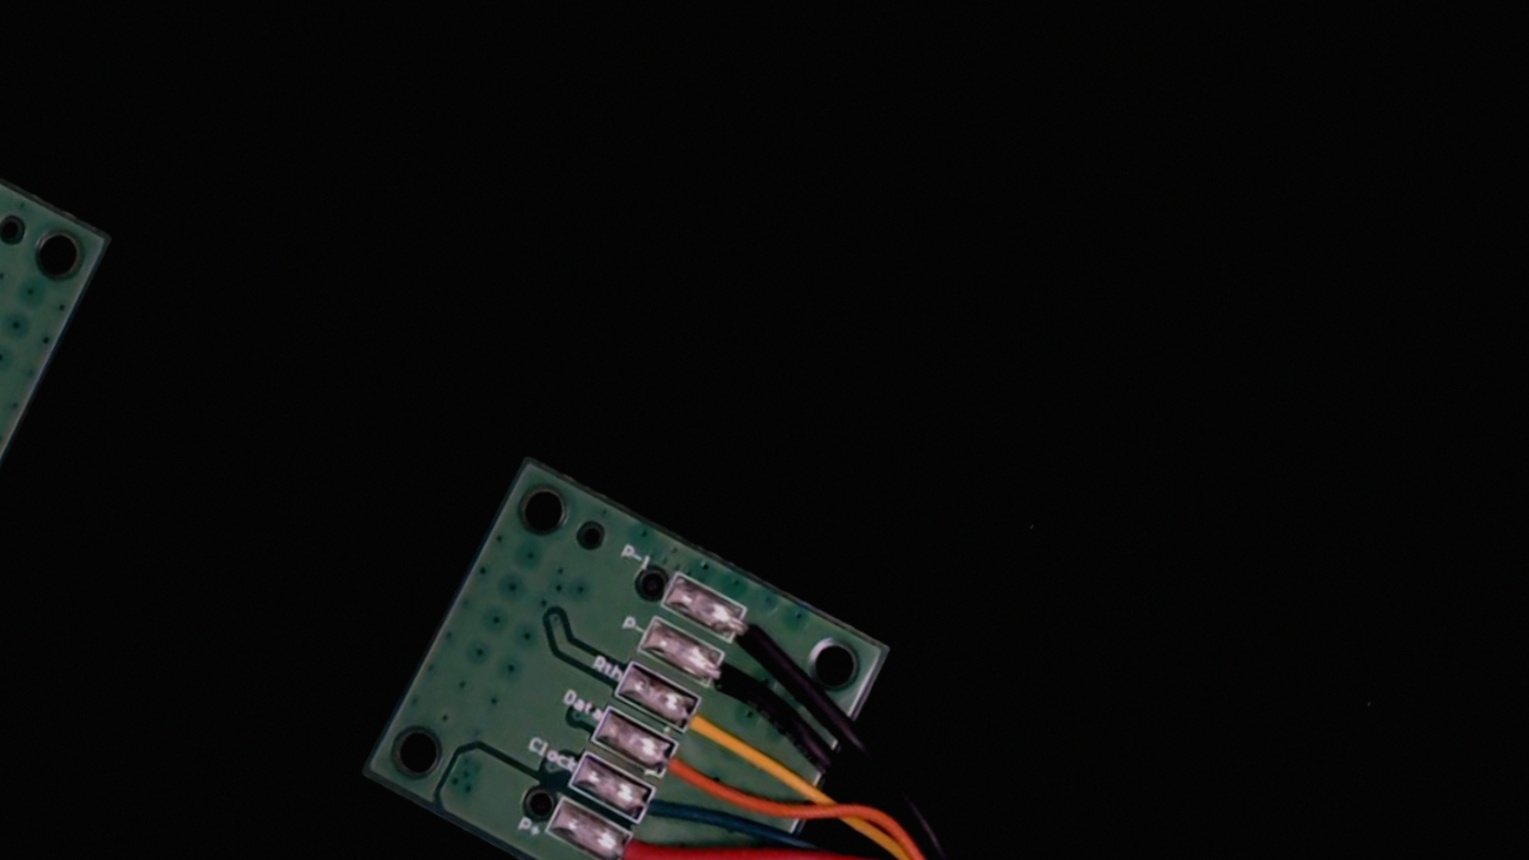Black: (686, 647, 774, 717)
Black1: (711, 600, 795, 668)
Green: (619, 777, 705, 848)
Orange: (640, 733, 728, 807)
Red: (598, 825, 688, 860)
Yellow: (662, 689, 759, 765)
